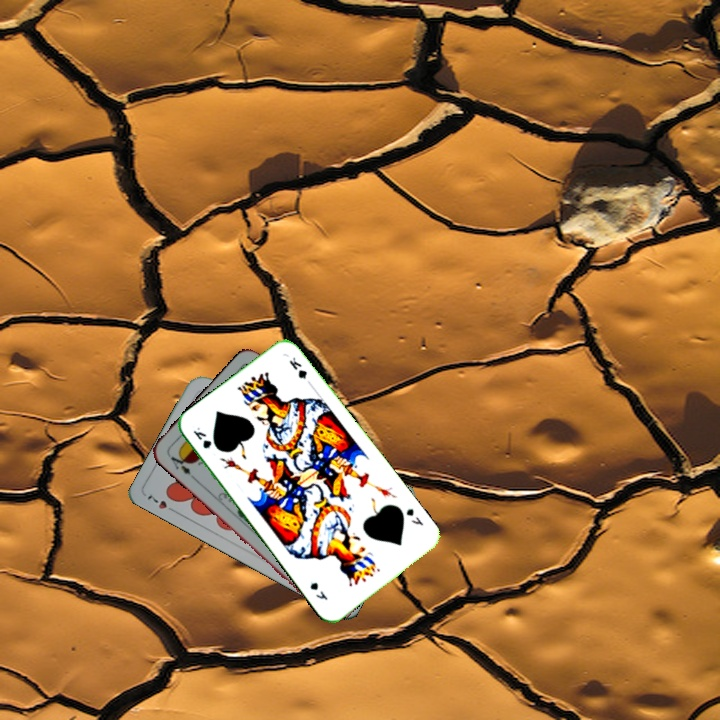EA: (164, 448, 193, 477)
GK: (189, 423, 214, 451), (402, 504, 426, 528)
H7: (143, 491, 180, 516)
